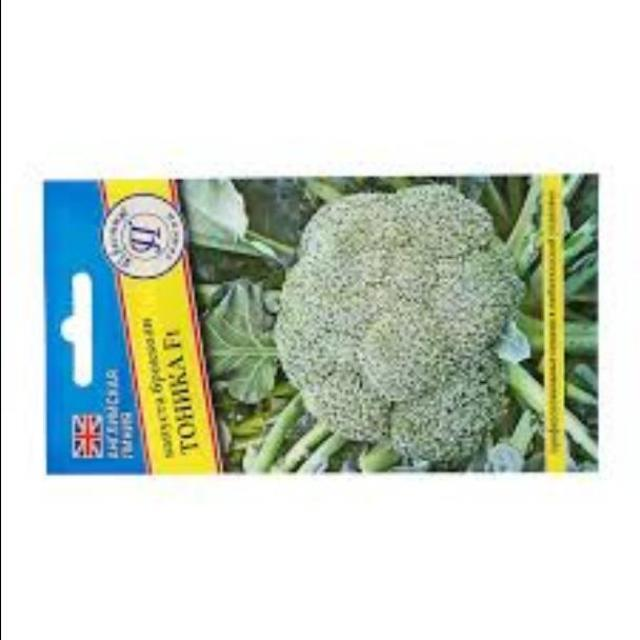Broccoli: (237, 167, 531, 483)
